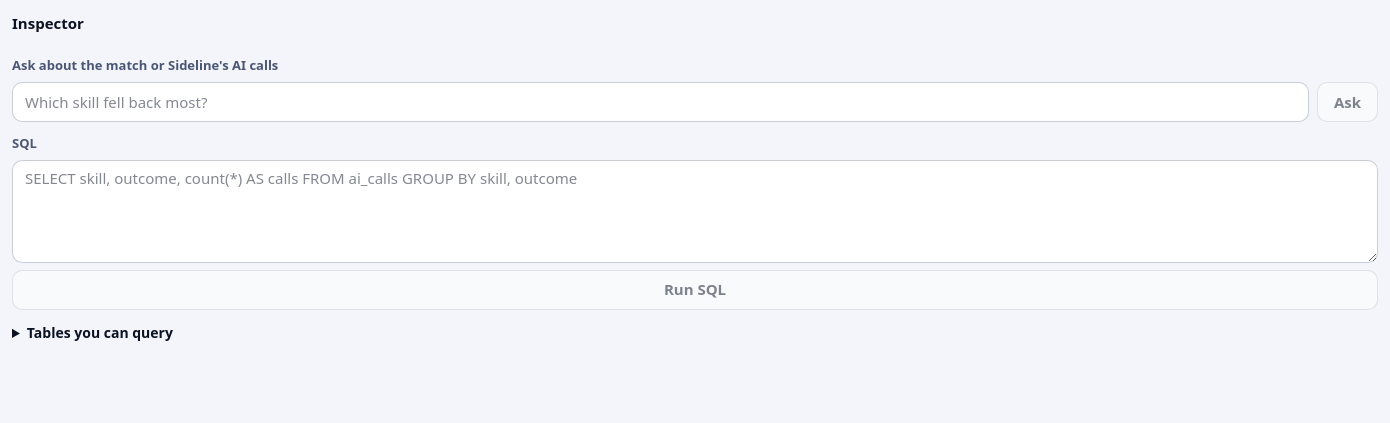
Test: InspectorQuery (PLAN 9.2) › says what happened on timeout
Type "x" into the field labelled "Ask about the match or Sideline's AI calls".
click(660, 102); type("x")  # box [12, 82, 1309, 122]
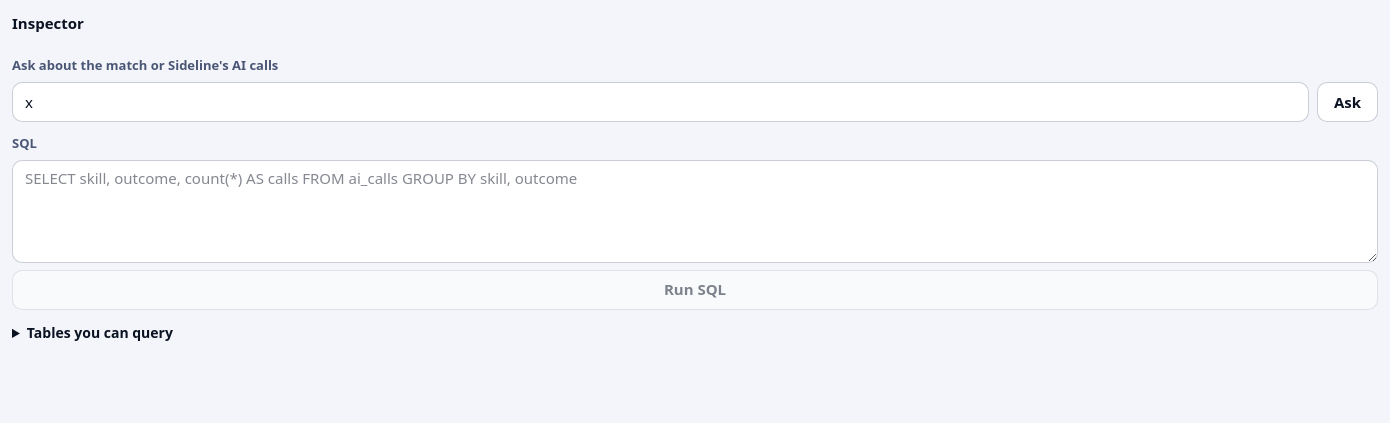
Click the button "Ask".
click(1347, 102)  # box [1317, 82, 1378, 122]
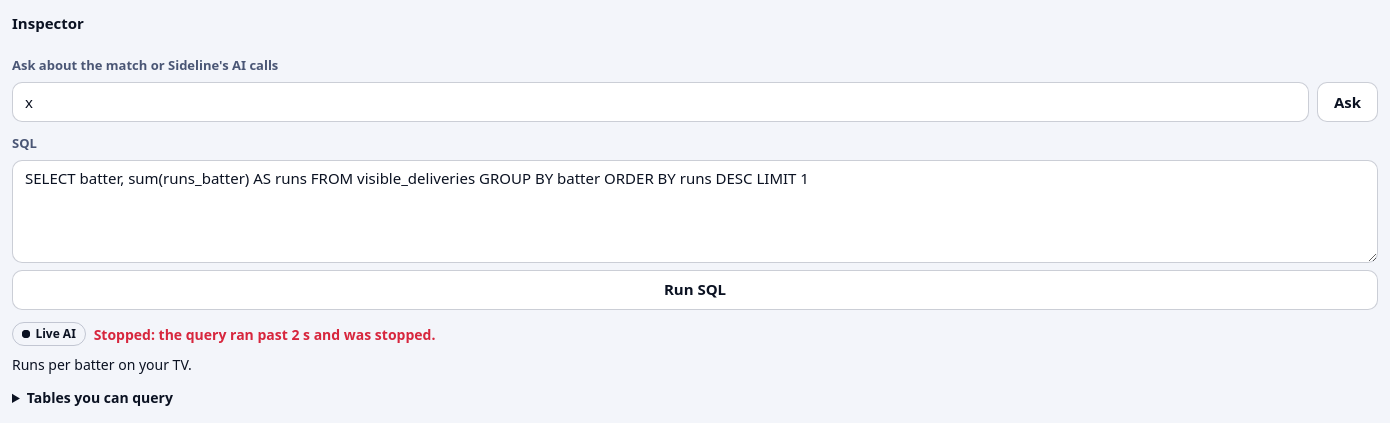
expect the text "Stopped: the query ran past 2 s and was stopped." is shown: met, box [94, 324, 435, 344]
